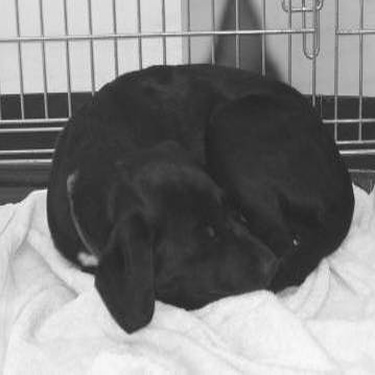dog: (36, 54, 362, 335)
